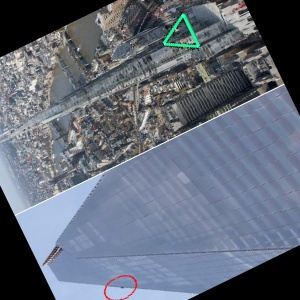triangle: (162, 11, 201, 51)
